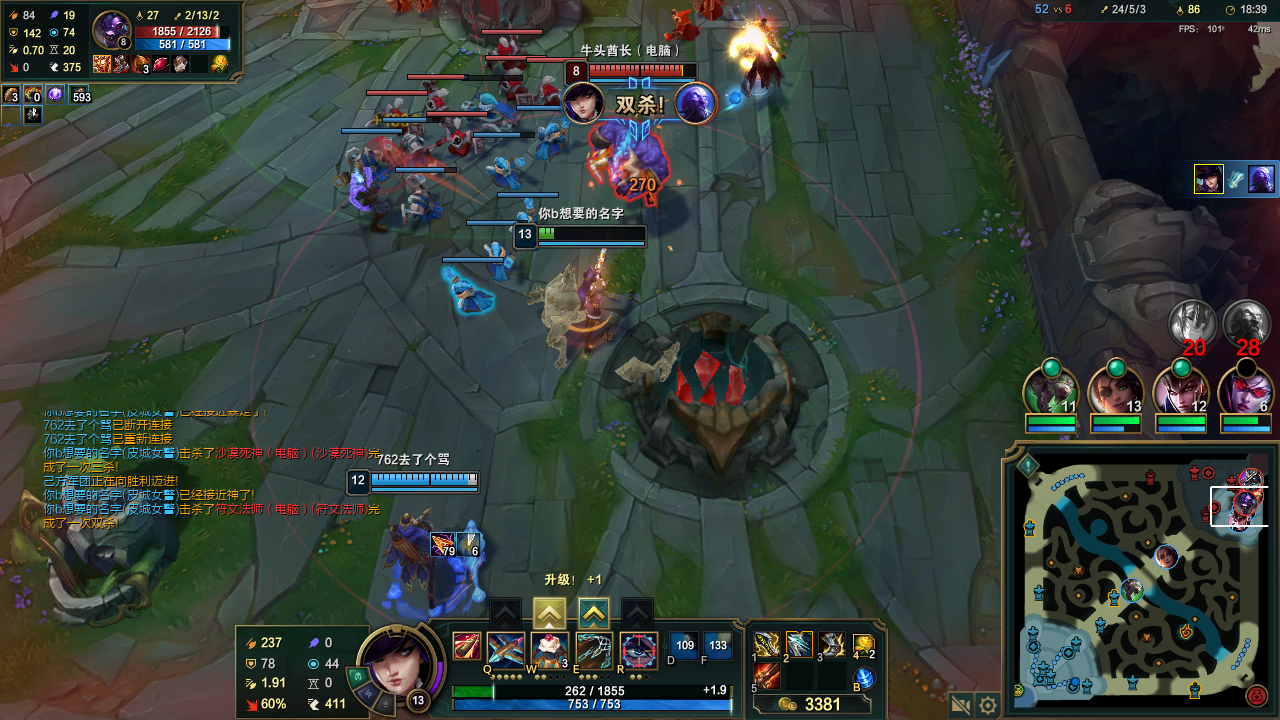DFXB: (445, 132, 480, 158), (665, 14, 693, 42), (491, 41, 525, 61), (536, 80, 565, 103), (506, 78, 531, 100), (697, 1, 720, 20), (382, 106, 409, 122), (418, 92, 440, 109)
DFYX: (586, 67, 689, 81)
Shenji: (583, 602, 608, 623)
Tuijianshengji: (537, 602, 562, 629)
WFXB: (445, 267, 495, 320), (470, 88, 512, 132), (400, 189, 442, 223), (533, 123, 565, 158), (485, 151, 520, 182), (484, 242, 512, 275), (512, 208, 541, 226)
